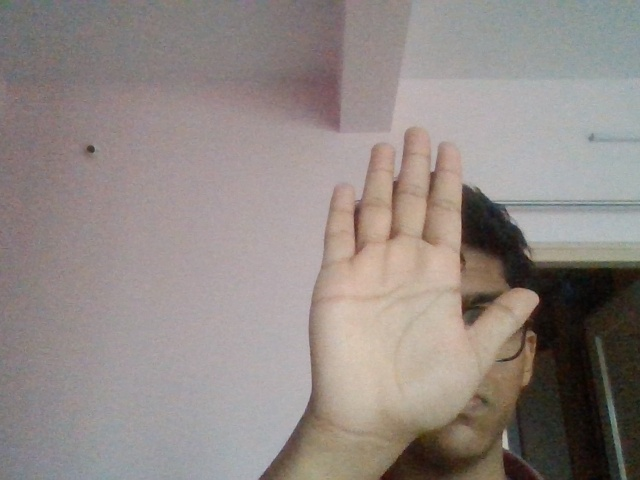Hello: (306, 123, 538, 442)
